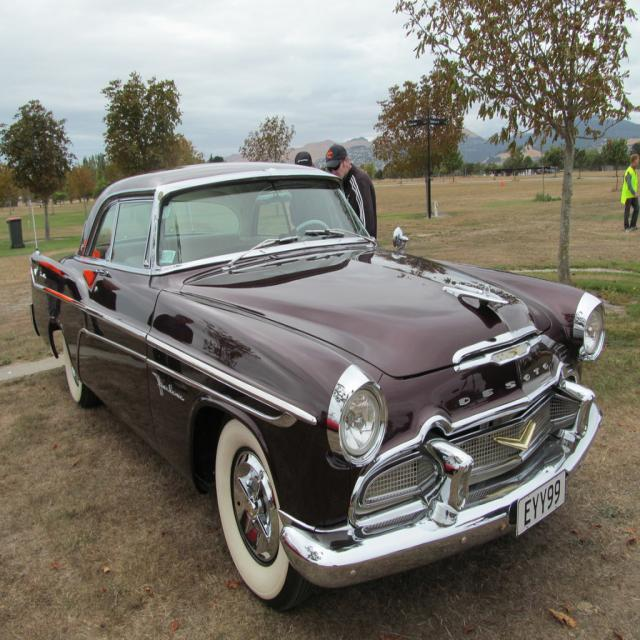car: (34, 163, 599, 590)
